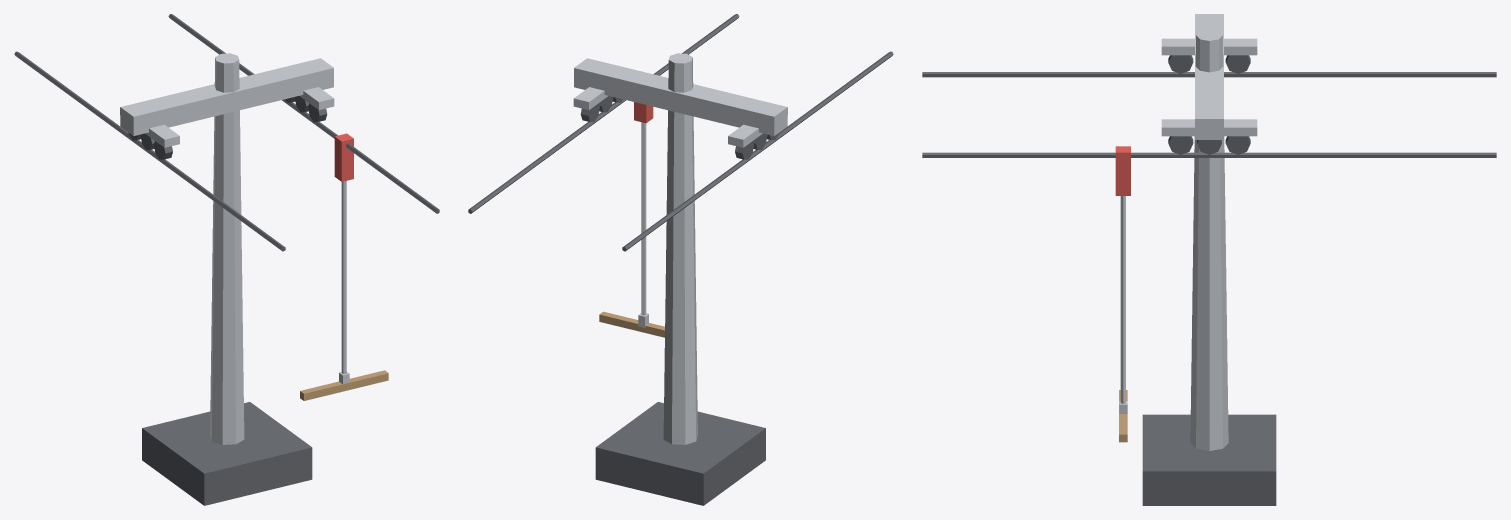
File: ski-resort-and-snow-park-t-bar-tow-91c562a5__25960.glb
The picture shows the model from 3 angles, left to right: view 1: azimuth 30°, elevation 25°; view 2: azimuth 150°, elevation 25°; view 3: azimuth 270°, elevation 25°; orthographic projection. The views are drawn at different scales.
Visible parts, largest first — view 1: t-bar-tow, t-bar (×3); view 2: t-bar-tow, t-bar (×2); view 3: t-bar-tow, t-bar (×2).
Part boxes in pixels (bbox=[...]): t-bar-tow: bbox=[14, 14, 439, 505]; t-bar (×3): bbox=[300, 133, 388, 400]; t-bar-tow: bbox=[468, 14, 893, 505]; t-bar (×2): bbox=[599, 122, 664, 337]; t-bar-tow: bbox=[922, 14, 1496, 505]; t-bar (×2): bbox=[1115, 146, 1130, 413].
Bounding box in the file's own units: 2.85 × 5.1 × 6.
